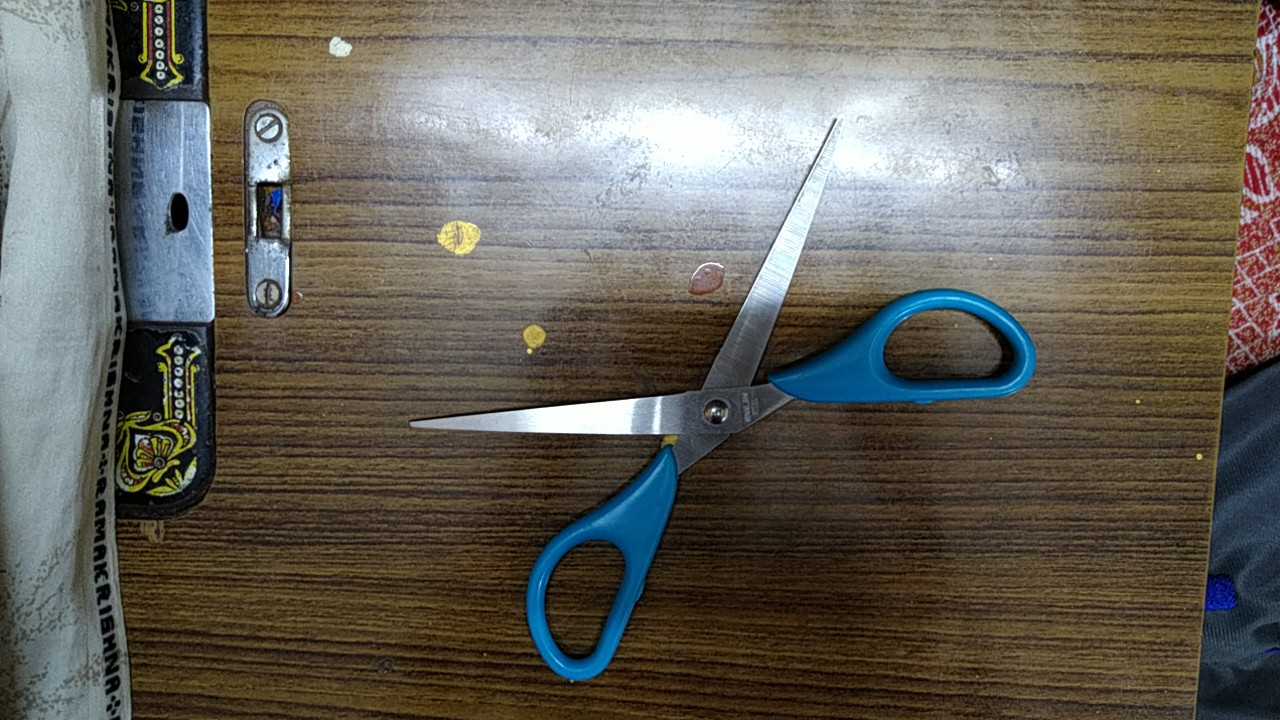scissor: (395, 107, 1043, 693)
